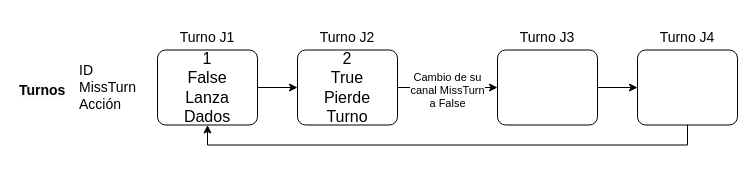
The diagram is 755 pixels wide and 170 high, and some of its shapes have lost their labels. Each missing label, with the centre of its shape:
"3 False Lanza Dados" goes at point (547, 87).
"4 False Lanza Dados" goes at point (687, 87).
